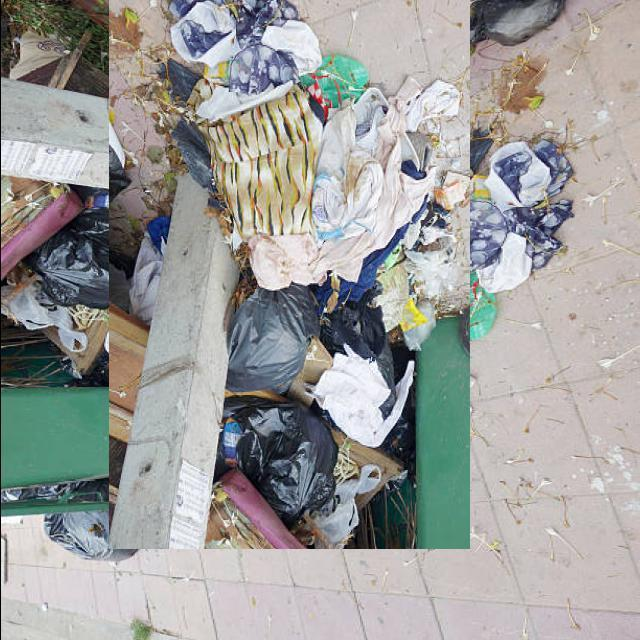Trashbag: (216, 393, 341, 530), (224, 278, 321, 401), (22, 211, 116, 314), (318, 295, 392, 370)
